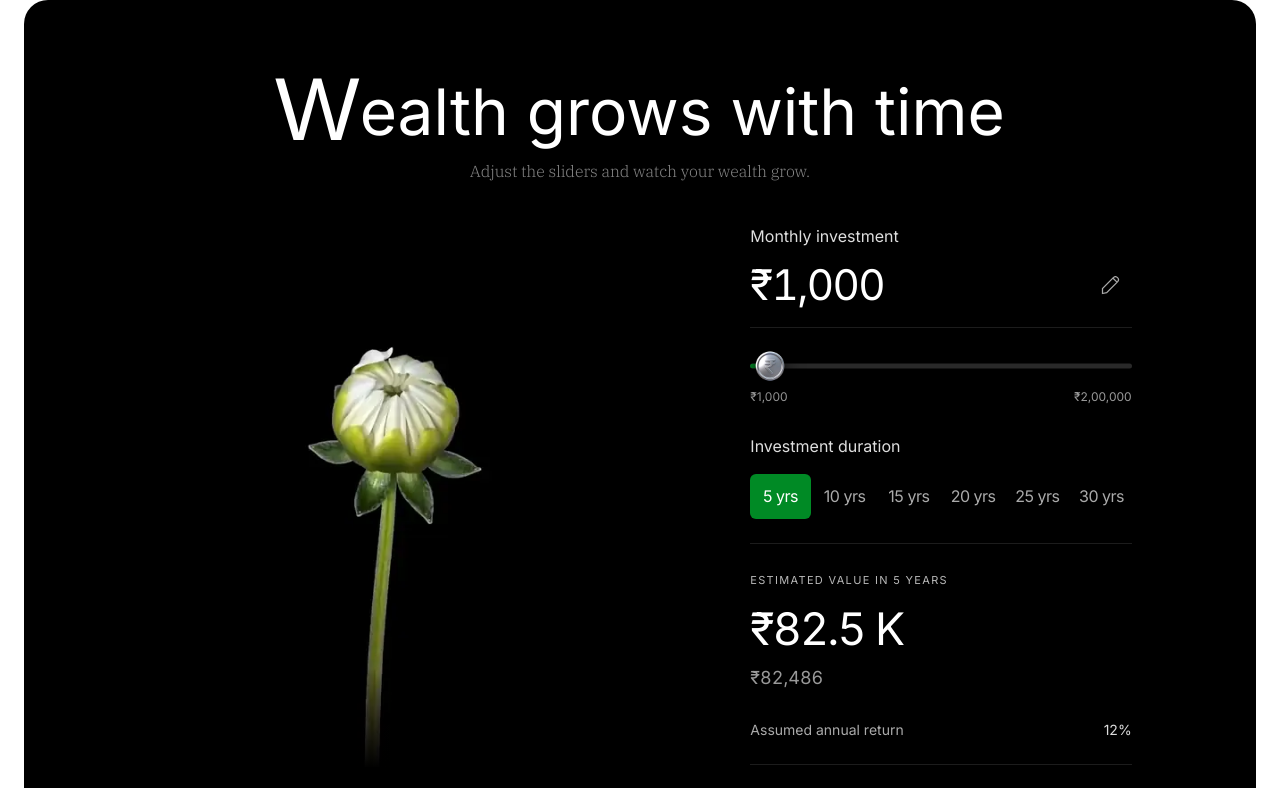
Test case: BloomSection amount editing › commits 999999 safely
Replace the text in the field labelled "Monthly investment" with "999999". click: coordinates (915, 286)
box: [750,260,1080,311]
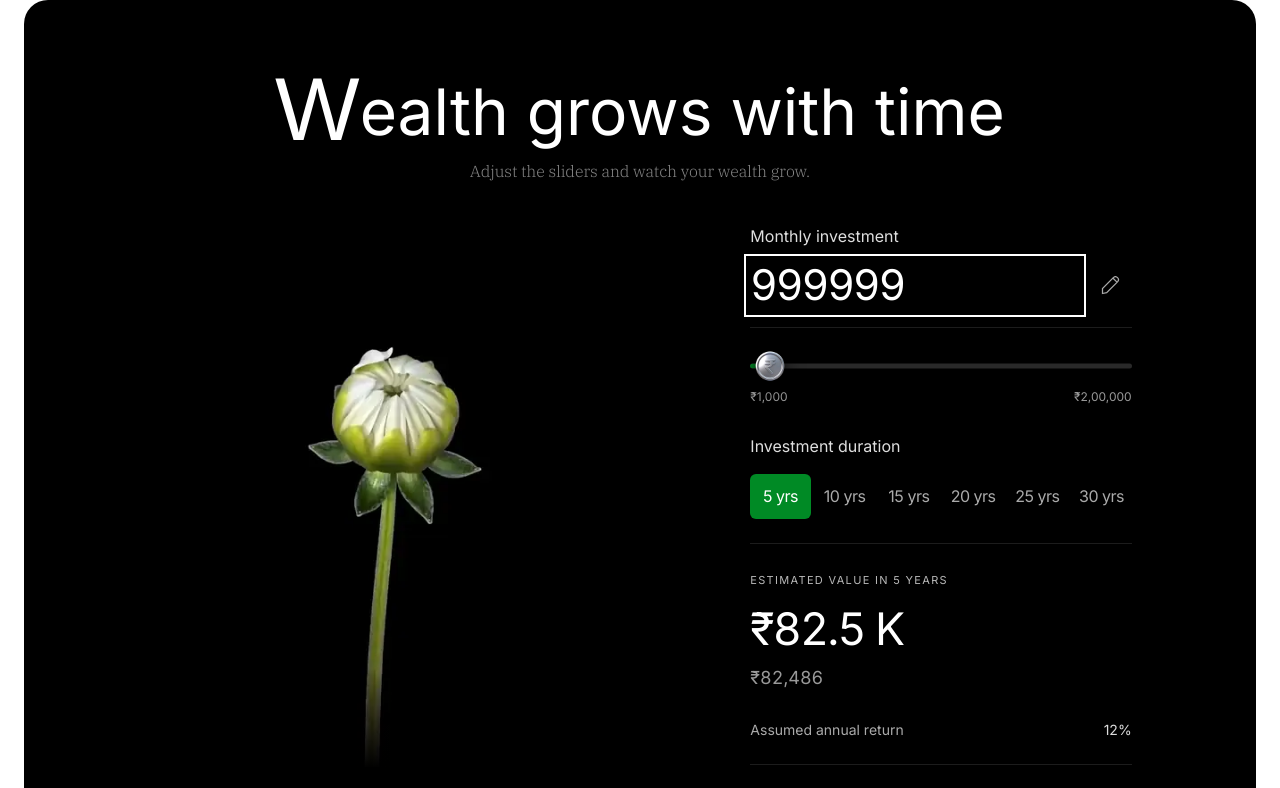
Leave the field labelled "Monthly investment", box [750,260,1080,311]
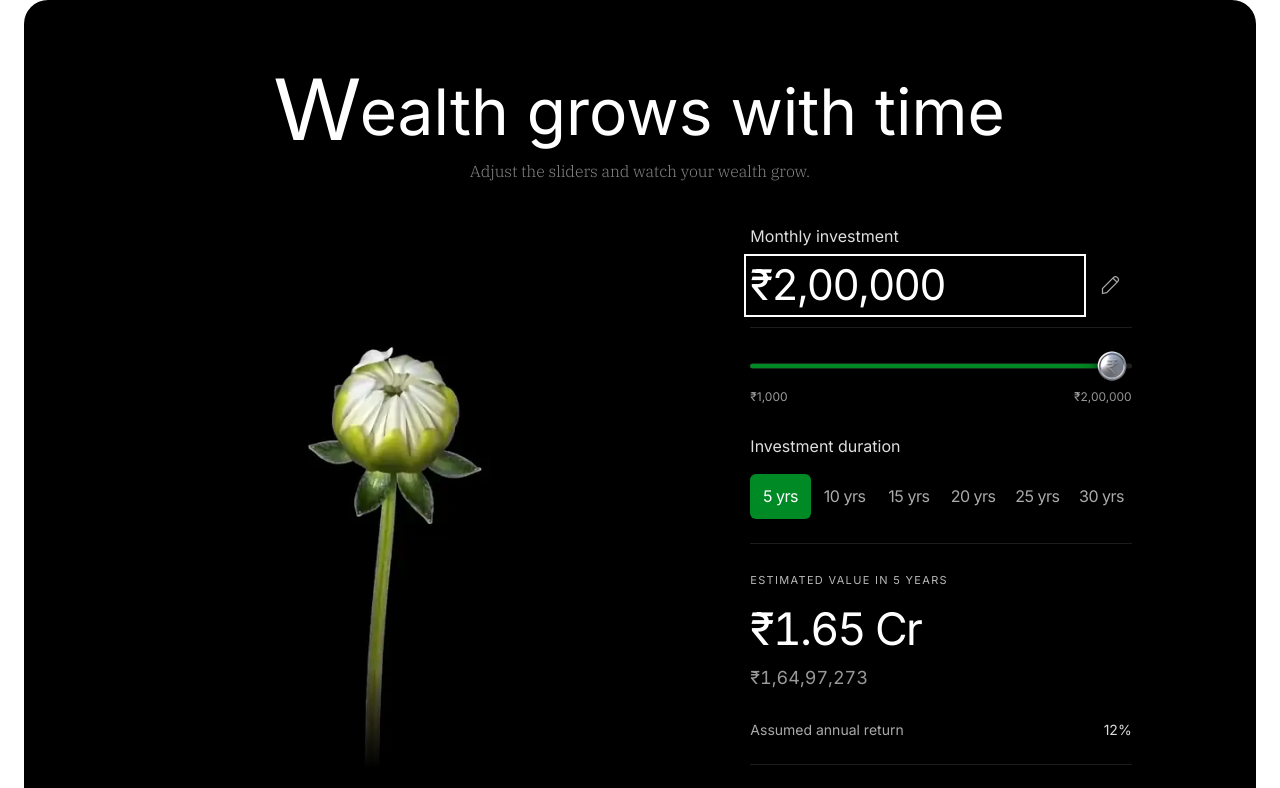
Expected: the element showing "Monthly investment ₹1,000 ₹2,00,000" holds "200000", [750,224,1132,406]
Now the field labelled "Monthly investment" holds "₹2,00,000", box [750,260,1080,311]
